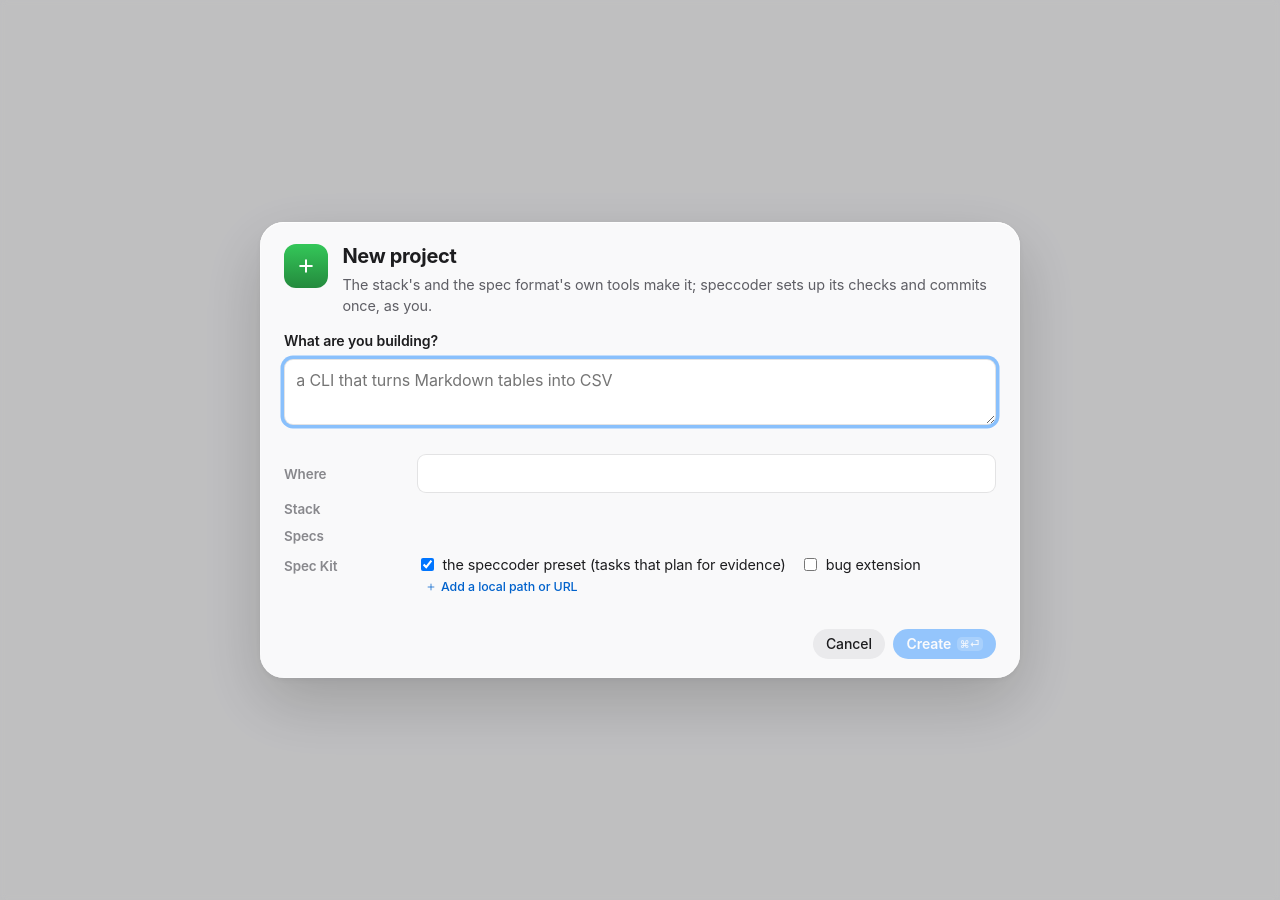
Test: NewProject › disables Create on a refusal and shows it with its fix
This screenshot has width=1280, height=900.
Type "a CLI" into the text box labelled "What are you building?" at (640, 392), box [284, 358, 996, 424]
Wait 350 ms
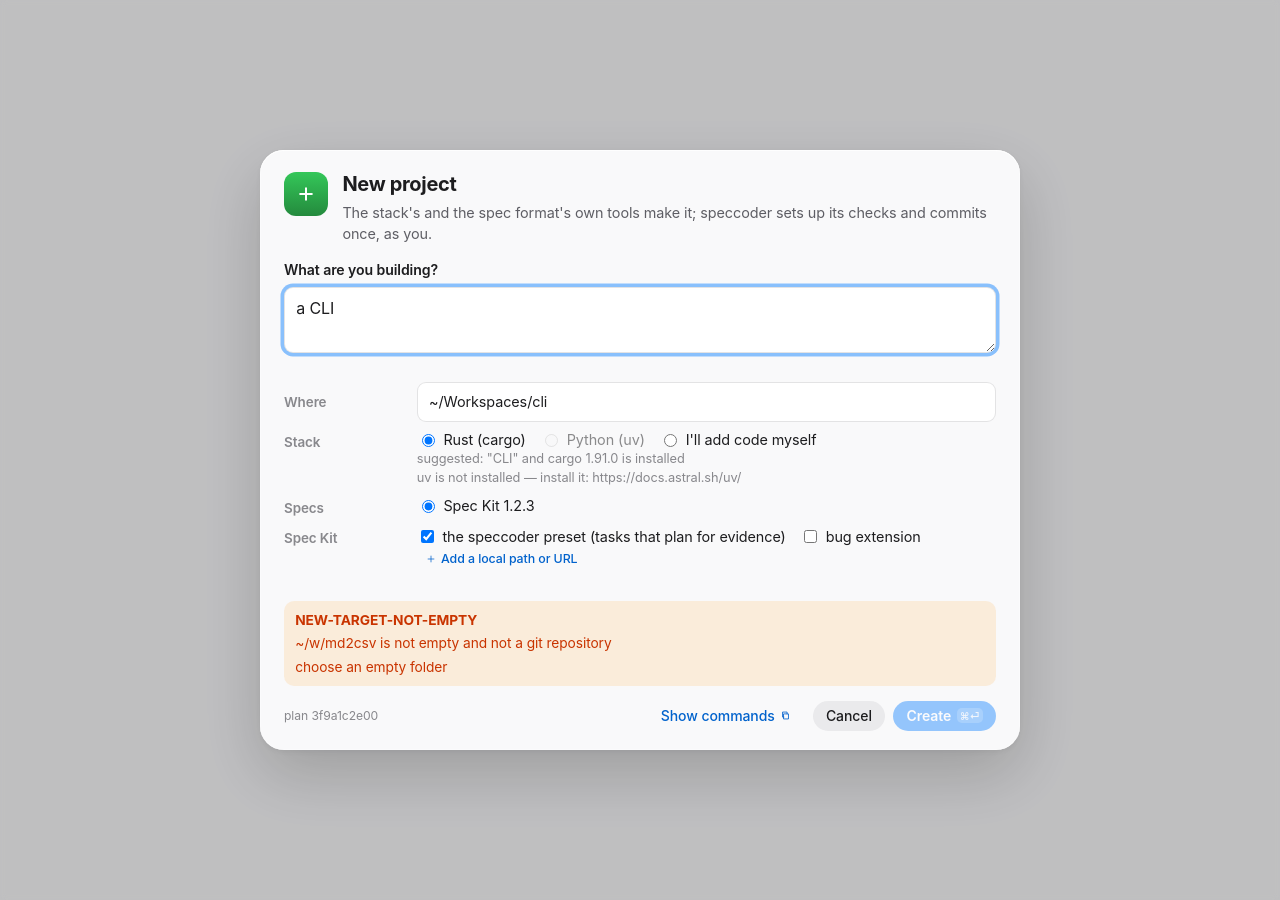
Check: the button "Create ⌘⏎" is disabled, box [893, 701, 996, 731]
Check: the message shows "NEW-TARGET-NOT-EMPTY", box [295, 612, 477, 628]
Check: the text "choose an empty folder" is shown, box [295, 659, 447, 675]
